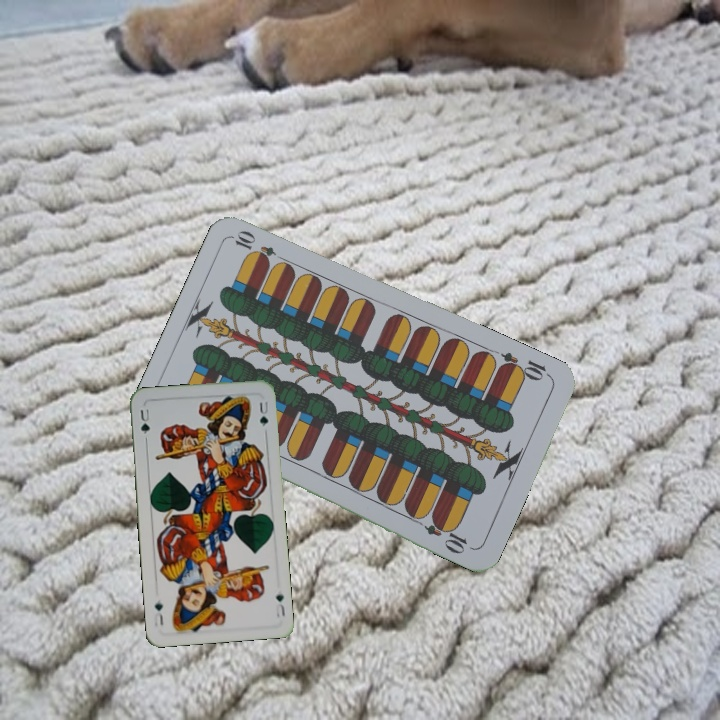E10: (495, 348, 553, 384)
GU: (136, 405, 153, 437), (271, 589, 287, 620)
